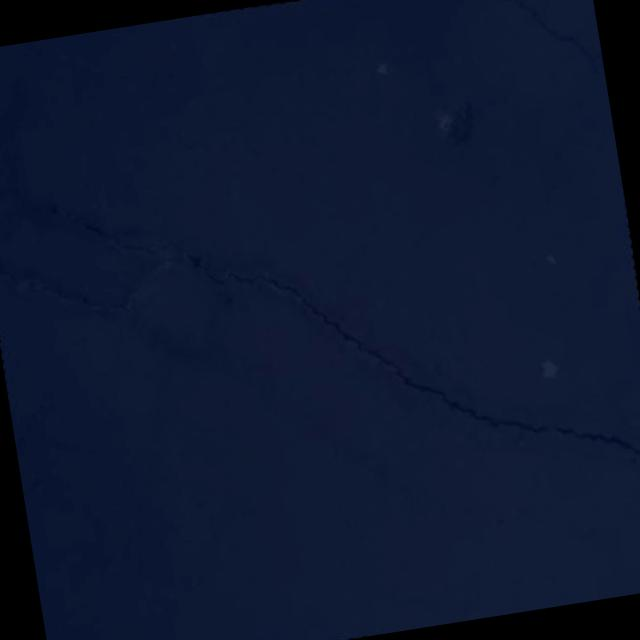crack: (148, 168, 640, 527), (0, 229, 187, 380), (0, 162, 159, 275), (471, 0, 605, 91)
